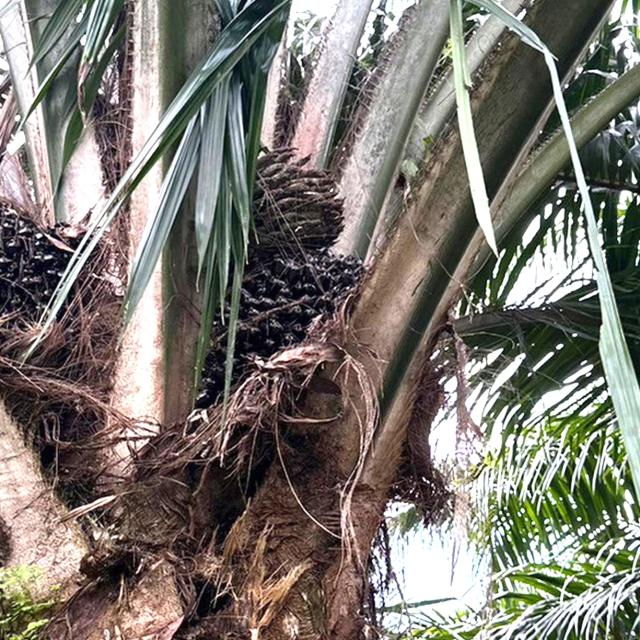unripe: (197, 243, 372, 440), (1, 198, 110, 375)
